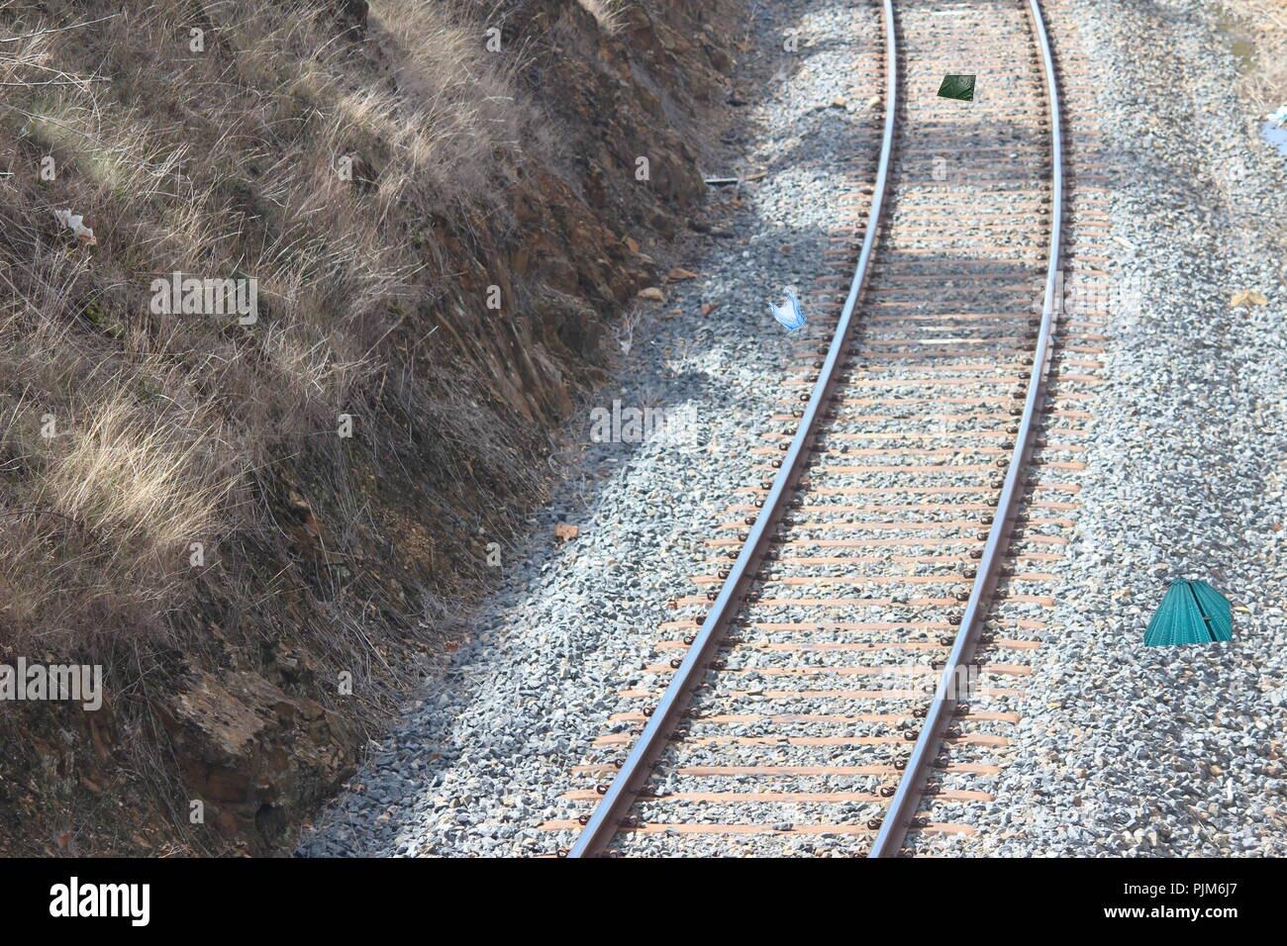Color_steel: (1123, 574, 1238, 661)
Dust_screen: (939, 71, 978, 111)
Plastic: (776, 283, 812, 336)
